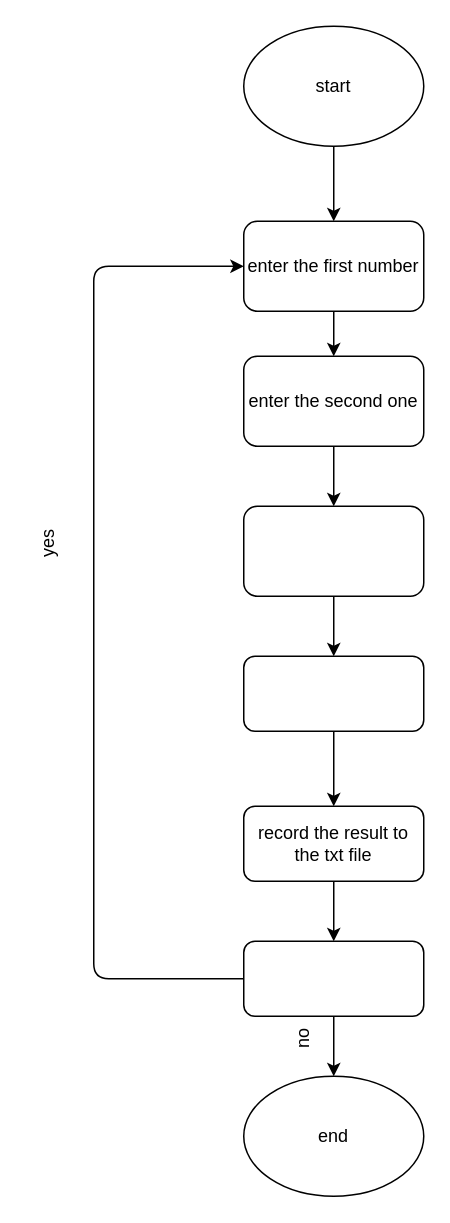
This 450x1223 diagram has some shape labels left out. Here are the shapes that lost their labels. From the top down, the centre of each, then its label:
At [333,550]: "choose the operation (+,-,*,**)".
At [333,693]: "complete the selected task".
At [333,978]: "one more operation?".
